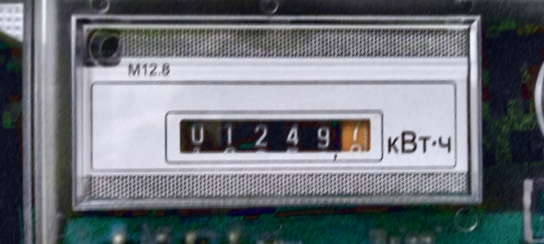0: (188, 118, 207, 146)
1: (220, 119, 236, 146)
2: (250, 122, 269, 149)
4: (283, 120, 301, 146)
7: (347, 116, 364, 143)
9: (312, 123, 332, 150)
screen: (160, 91, 389, 183)
